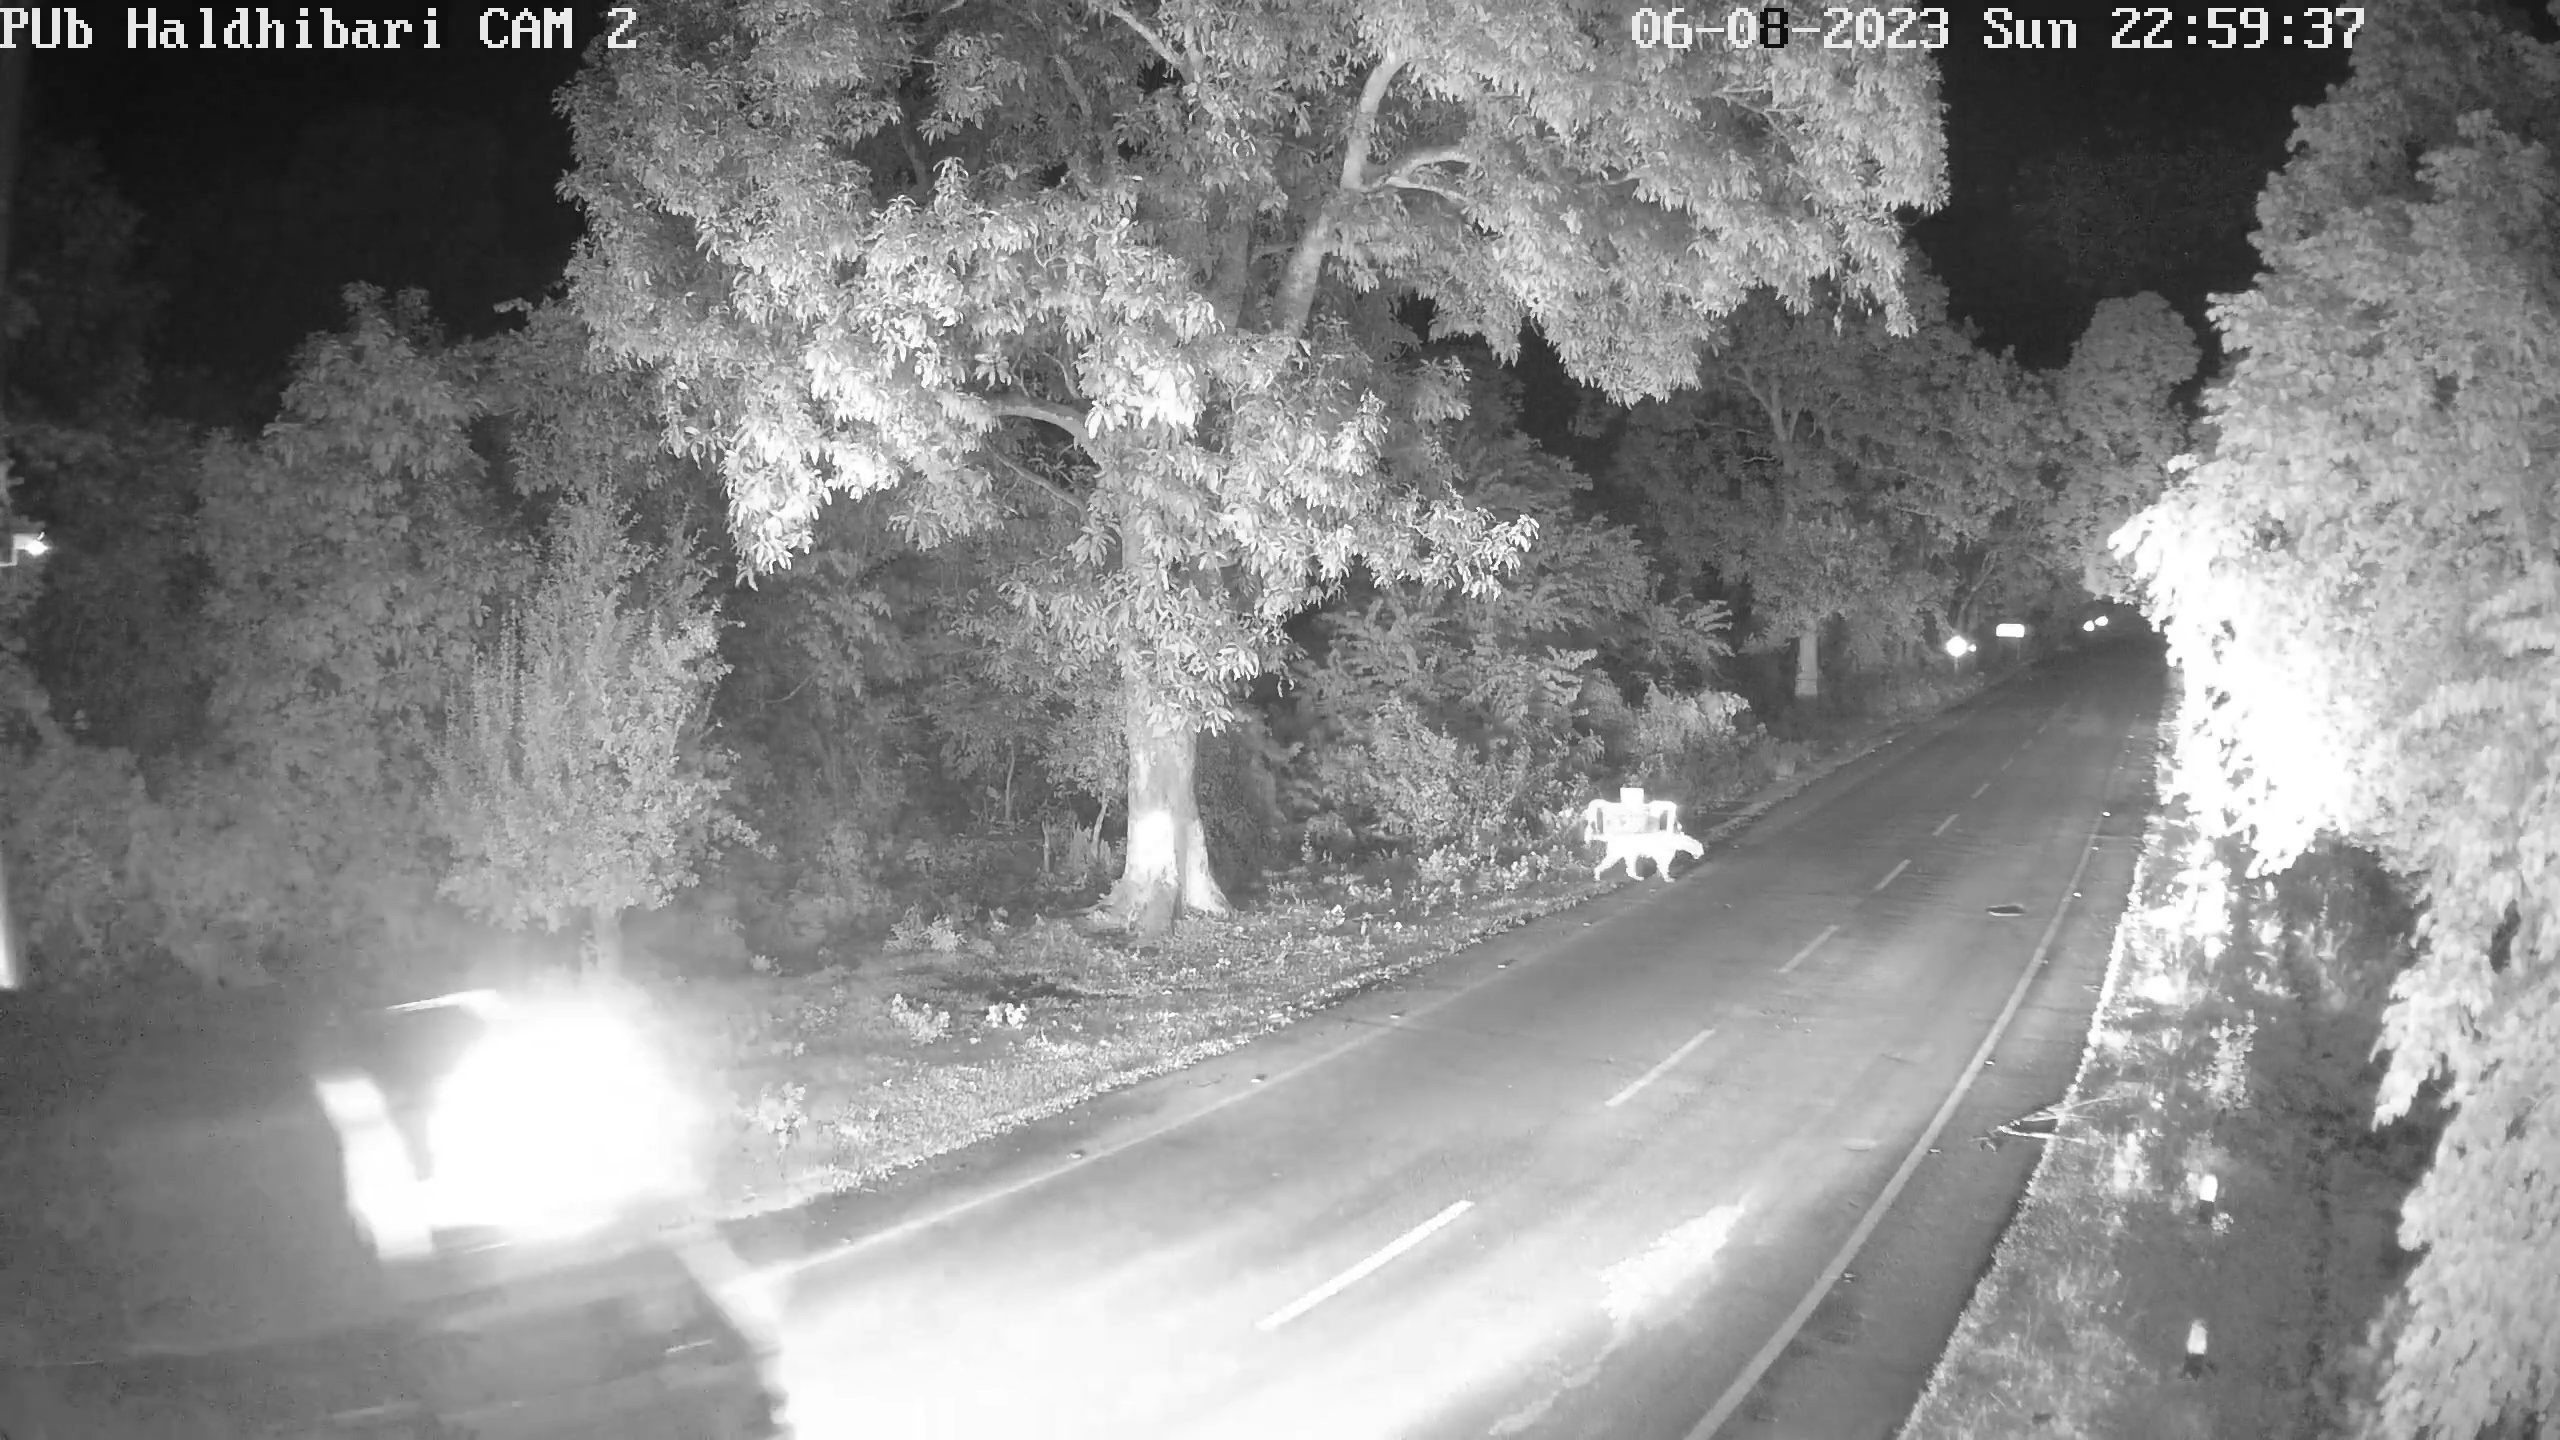tigers: (1588, 830, 1707, 886)
